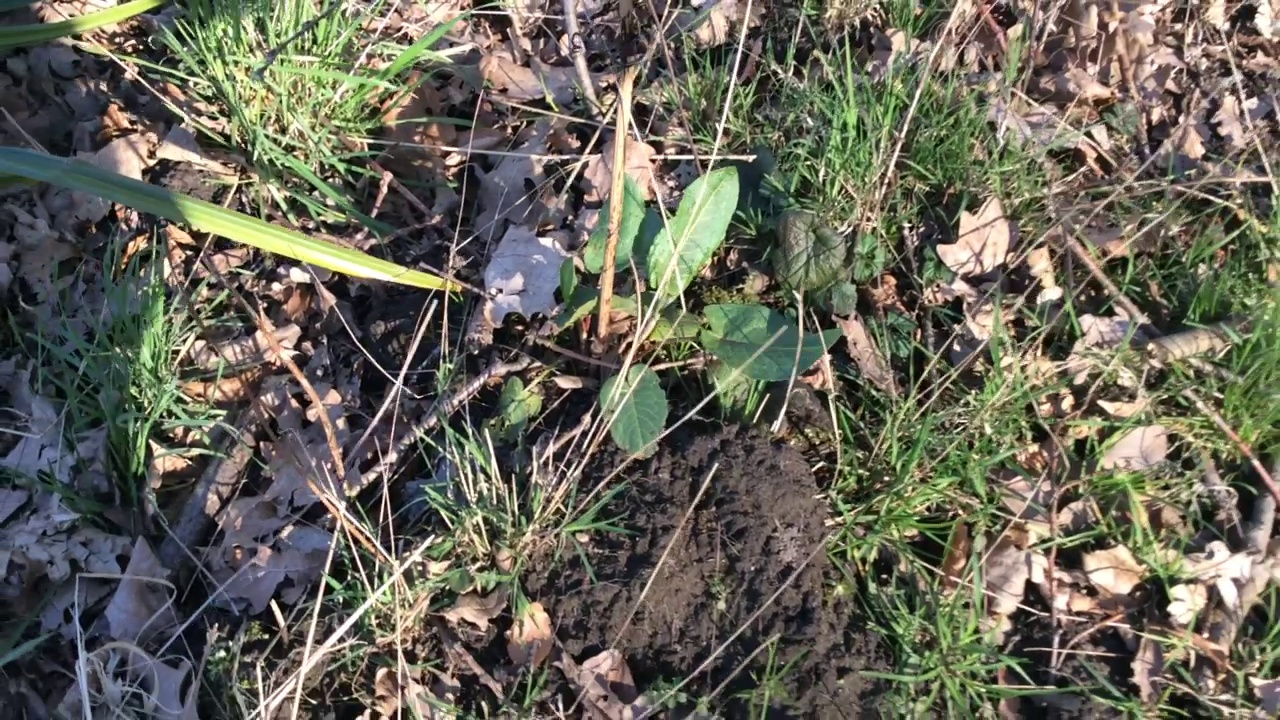rumex: (499, 166, 843, 463)
